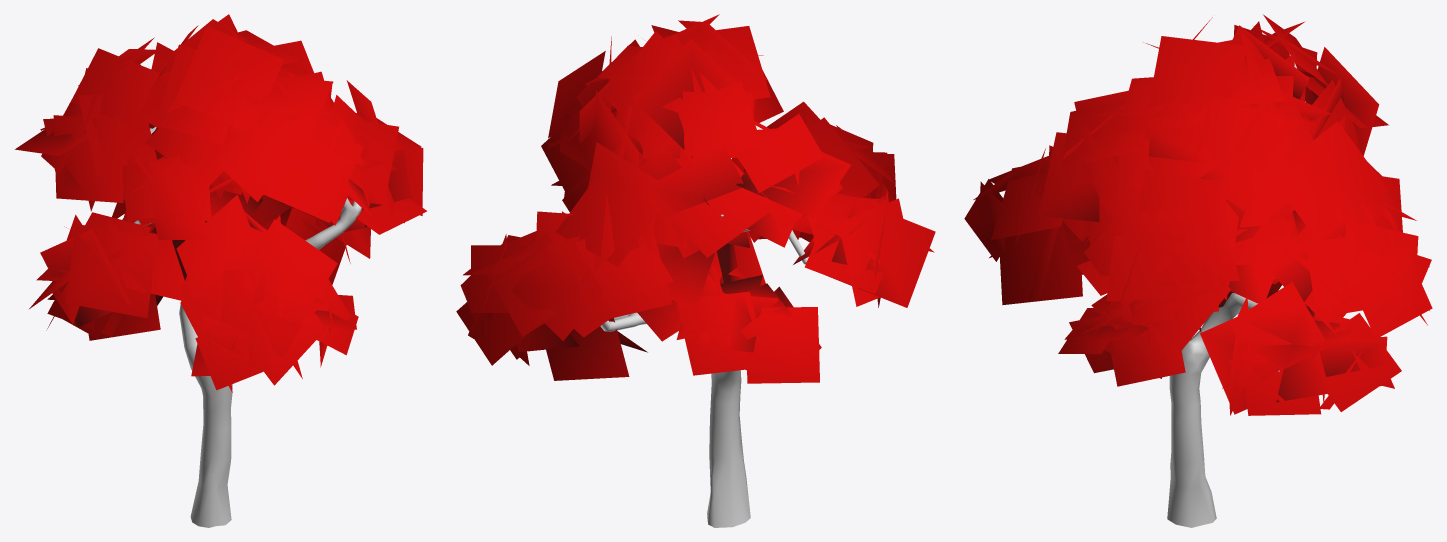
File: SM_Tree2.fbx
3 views of the same model, side by side, from view 1: azimuth 30°, elevation 25°; view 2: azimuth 150°, elevation 25°; view 3: azimuth 270°, elevation 25° (orthographic). The views are drawn at different scales.
Parts seen in each view (by area): view 1: Leaves.005, Tree Trunk2; view 2: Leaves.005, Tree Trunk2; view 3: Leaves.005, Tree Trunk2.
Part boxes in pixels (box(x1,y1,x2,y2)): Leaves.005: box(15, 14, 426, 392); Tree Trunk2: box(134, 127, 361, 527); Leaves.005: box(456, 14, 935, 383); Tree Trunk2: box(600, 214, 807, 527); Leaves.005: box(964, 14, 1432, 415); Tree Trunk2: box(1167, 53, 1305, 527).
Bounding box in the file's own units: 4.64 × 5.83 × 4.87.
